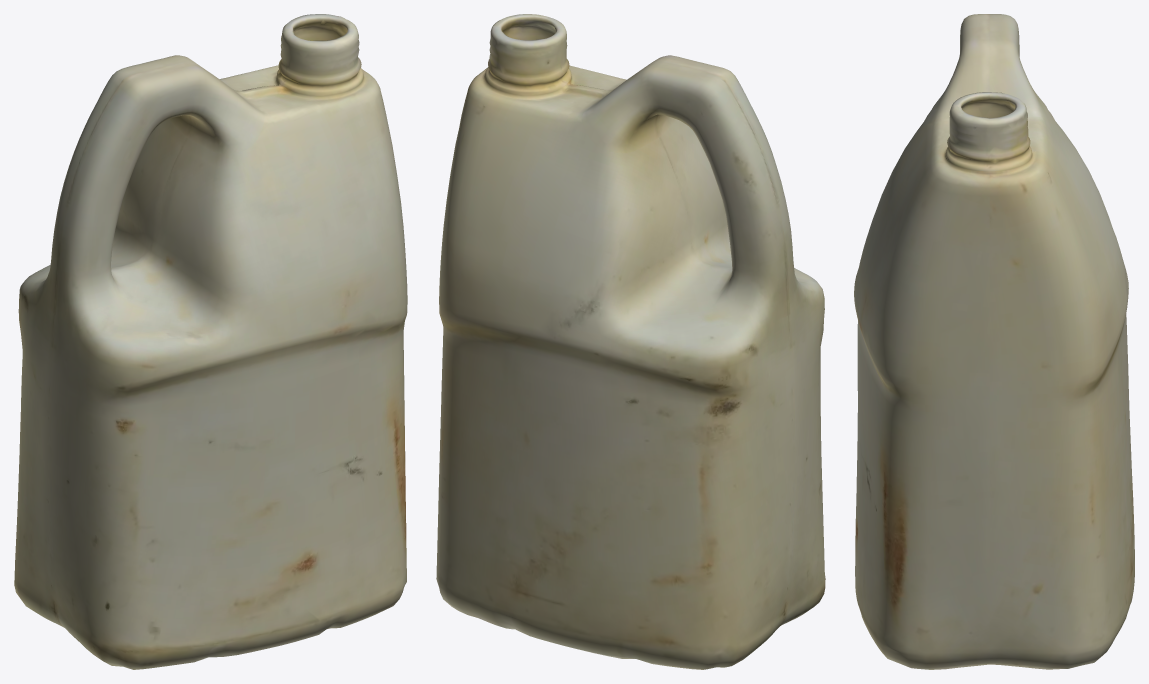
File: plastic_bottle_gallon.glb
The picture shows the model from 3 angles, left to right: view 1: azimuth 30°, elevation 25°; view 2: azimuth 150°, elevation 25°; view 3: azimuth 270°, elevation 25°; orthographic projection.
Visible parts, largest first — view 1: plastic_bottle_gallon; view 2: plastic_bottle_gallon; view 3: plastic_bottle_gallon.
Boxes of the visible parts, box(x1,y1,x2,y2) form: plastic_bottle_gallon: box(14, 14, 407, 669); plastic_bottle_gallon: box(436, 14, 825, 669); plastic_bottle_gallon: box(854, 14, 1134, 669).
Size of the model in its own units: 0.1663 by 0.2745 by 0.1263.
1 material, 1 textured.
